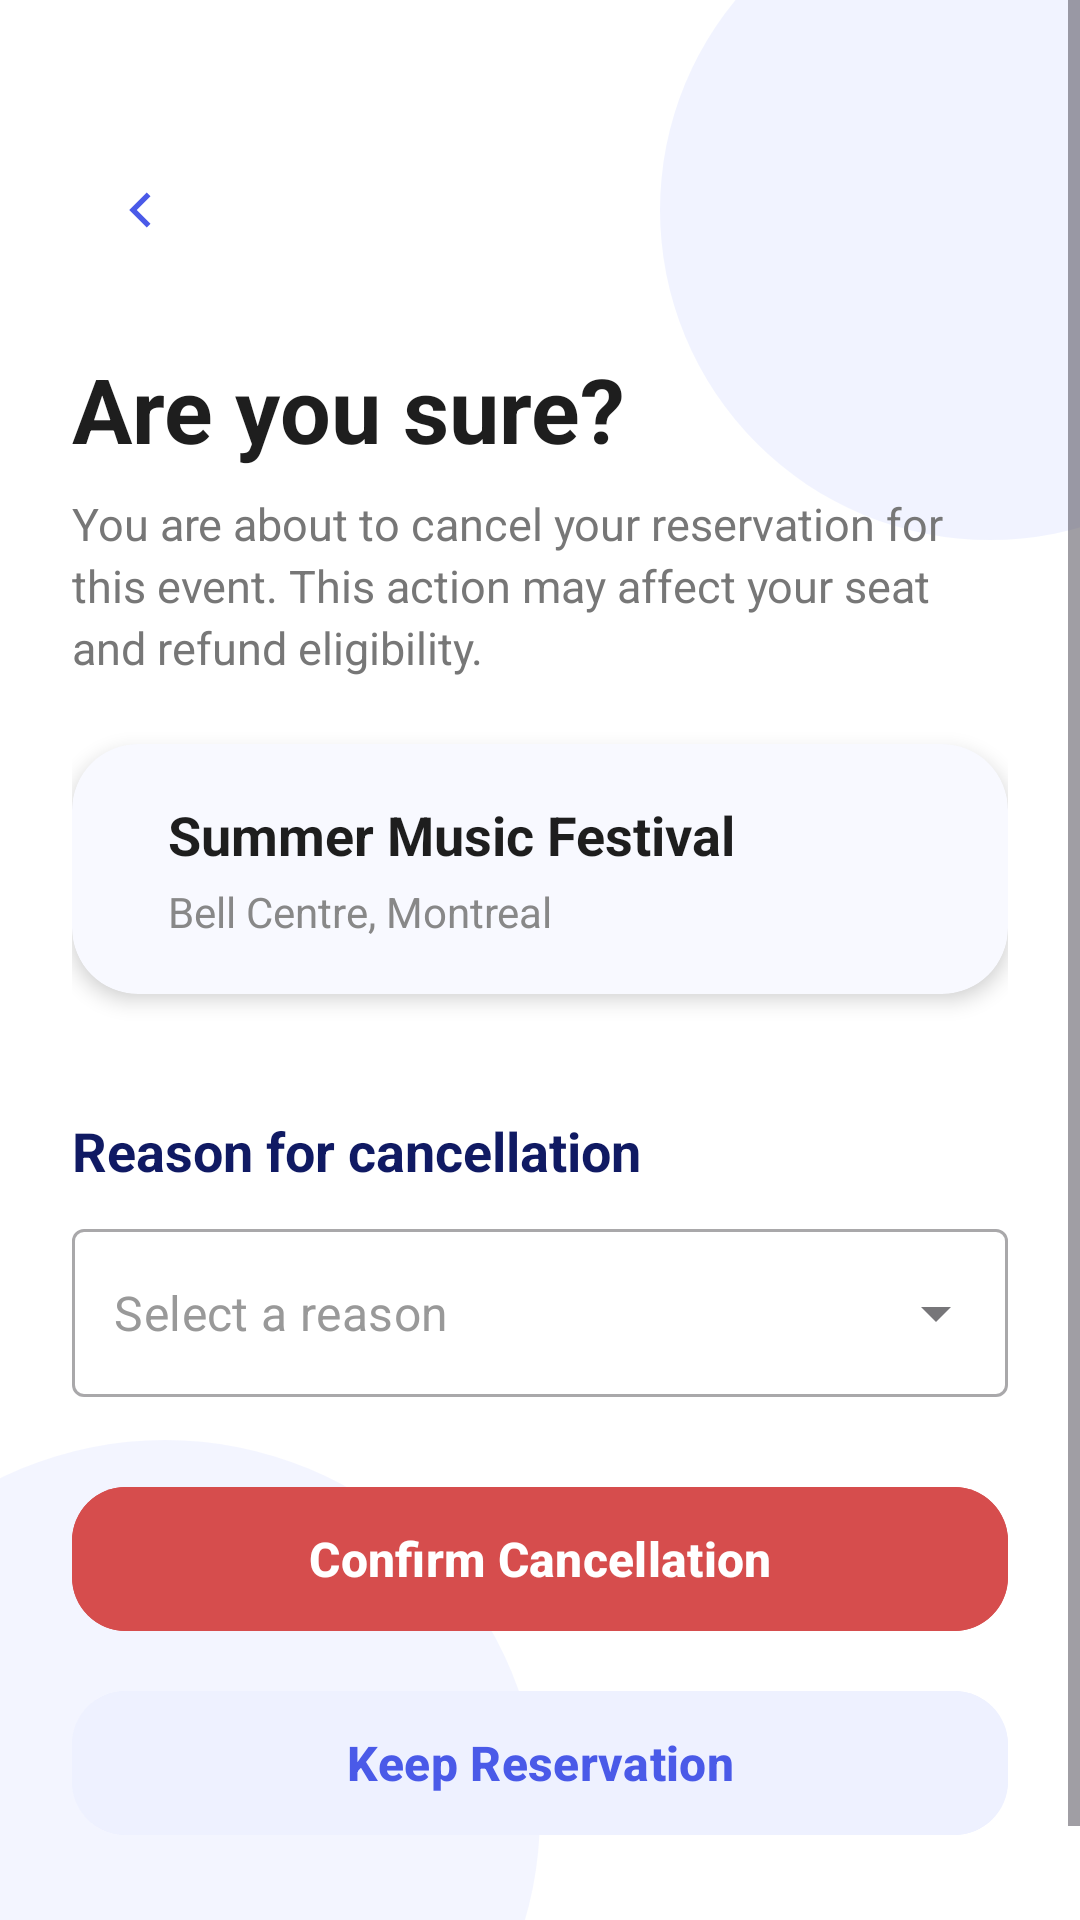

Where to tap for icons on this 1080 × 1920 app screen, as (x=x, y=y):
Back: (x=140, y=210)
